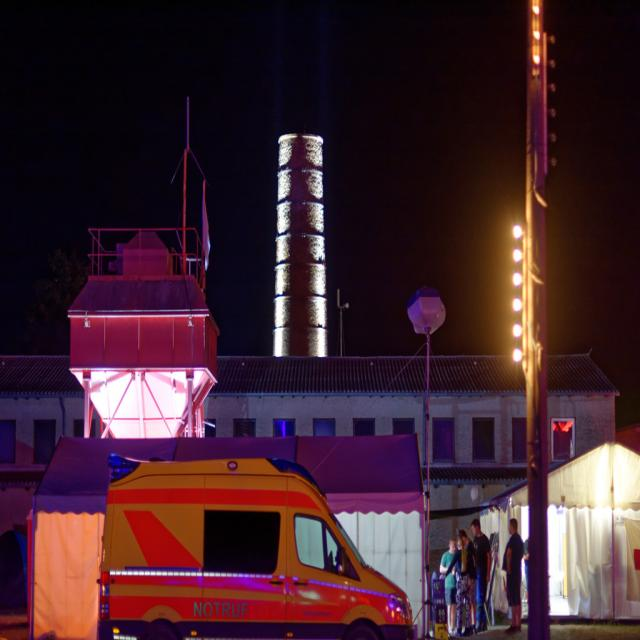Ambulance: (92, 445, 424, 636)
